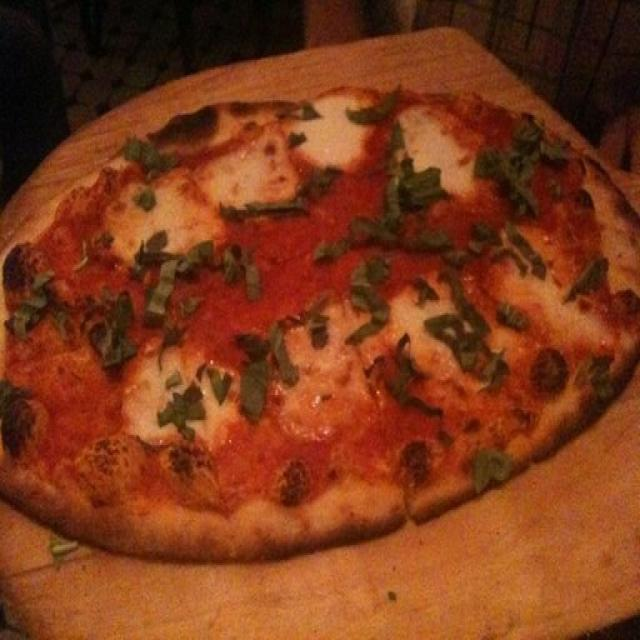Basil: (487, 142, 569, 224), (390, 136, 454, 214), (458, 223, 546, 275), (136, 229, 182, 324), (236, 334, 289, 416), (432, 315, 502, 375), (321, 221, 445, 253), (184, 246, 258, 295), (90, 302, 136, 370), (161, 373, 205, 439), (354, 272, 396, 338), (17, 276, 67, 331), (125, 142, 182, 177), (558, 260, 600, 303), (230, 199, 304, 217), (470, 456, 510, 486), (352, 96, 397, 121), (207, 362, 230, 403)
Pizza: (0, 85, 640, 567)
